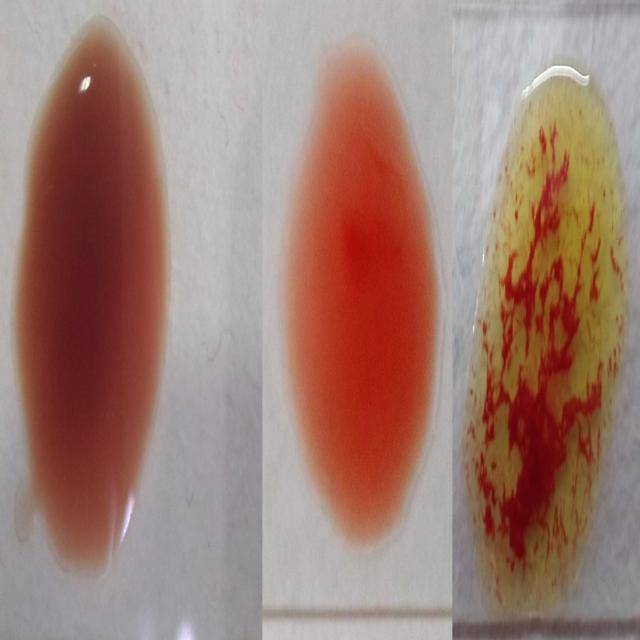B: (462, 64, 622, 604)
